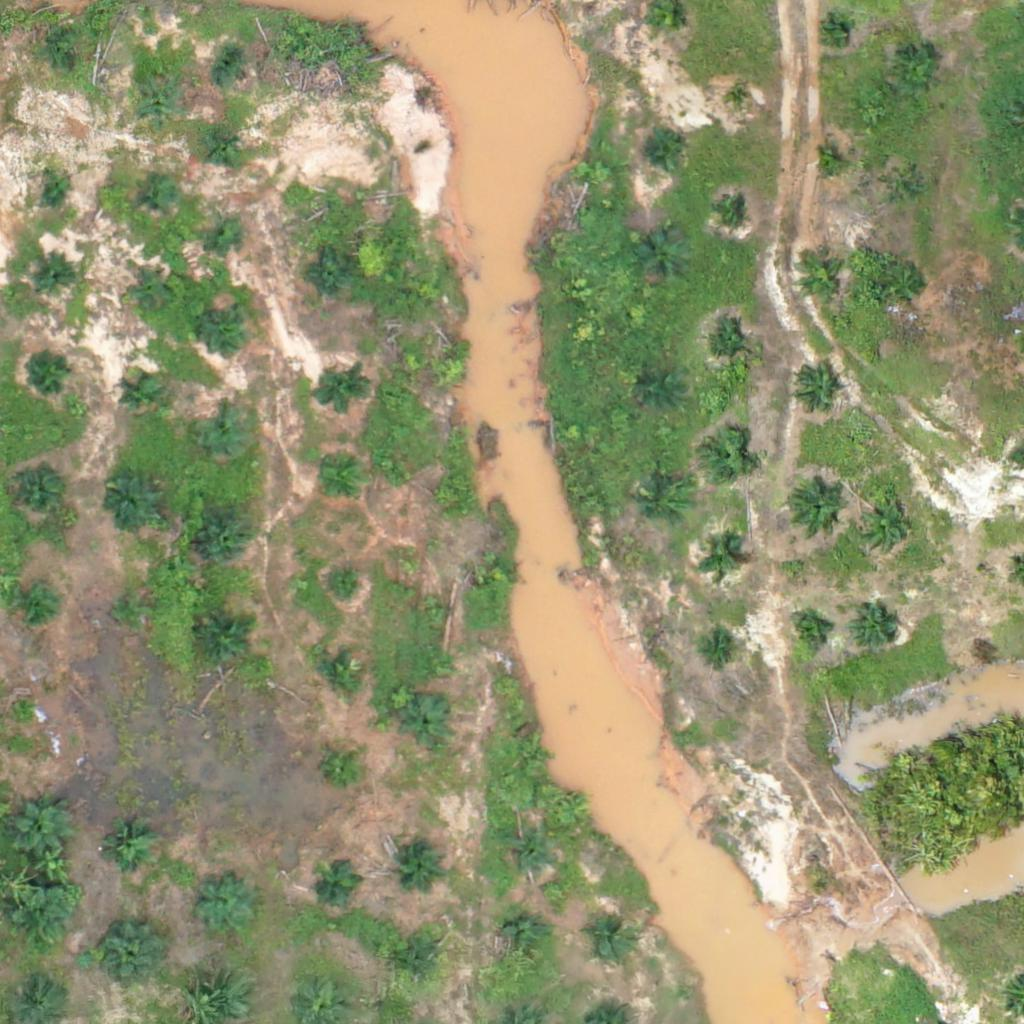Kelapa_Sawit: (98, 469, 161, 532), (96, 822, 159, 885), (100, 922, 163, 985), (195, 405, 258, 468), (10, 798, 73, 861), (853, 494, 916, 557), (194, 874, 256, 937), (12, 887, 74, 950), (787, 476, 849, 539), (202, 512, 252, 563), (201, 615, 251, 666), (883, 259, 933, 310), (312, 647, 362, 698), (796, 253, 846, 304), (14, 466, 64, 517), (26, 347, 76, 398), (203, 303, 253, 353), (396, 835, 446, 885), (314, 860, 364, 910), (503, 830, 553, 880), (402, 699, 452, 749), (499, 915, 549, 965), (585, 914, 635, 964), (393, 939, 443, 989), (704, 324, 754, 374), (702, 433, 752, 483), (791, 366, 841, 416), (851, 602, 901, 652), (316, 367, 366, 417), (314, 457, 364, 507), (891, 48, 941, 98), (638, 232, 688, 282), (307, 252, 357, 302), (640, 483, 690, 533), (511, 737, 549, 775), (323, 748, 361, 786), (701, 538, 739, 576), (702, 629, 740, 667), (789, 612, 827, 650), (415, 589, 453, 627), (425, 476, 463, 514), (431, 351, 469, 389), (642, 133, 680, 171), (41, 169, 79, 207), (209, 211, 247, 249), (209, 124, 247, 162), (208, 49, 246, 87), (17, 585, 55, 623), (479, 551, 516, 589), (886, 170, 924, 207), (642, 371, 679, 409), (37, 253, 75, 290), (52, 49, 89, 87), (137, 86, 174, 124), (142, 178, 179, 216), (132, 274, 169, 312), (113, 591, 150, 629), (325, 570, 362, 607), (123, 378, 160, 415), (822, 19, 847, 44), (815, 149, 840, 174), (727, 88, 752, 113), (721, 200, 746, 225)
